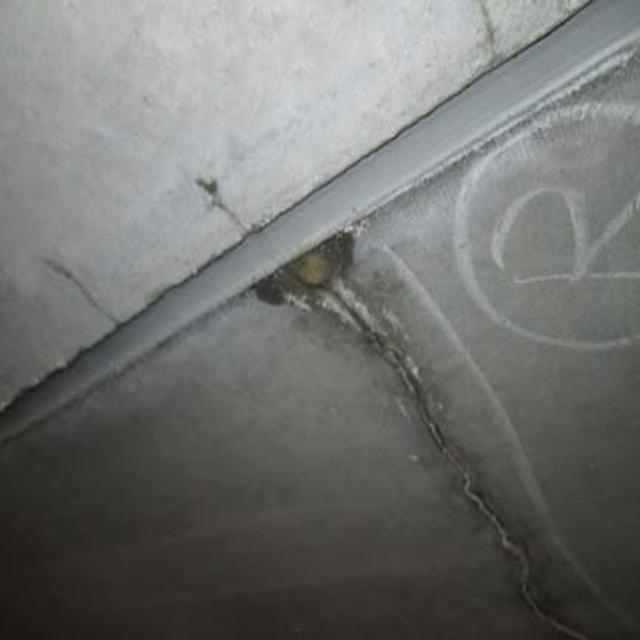leakage: (253, 216, 587, 637)
